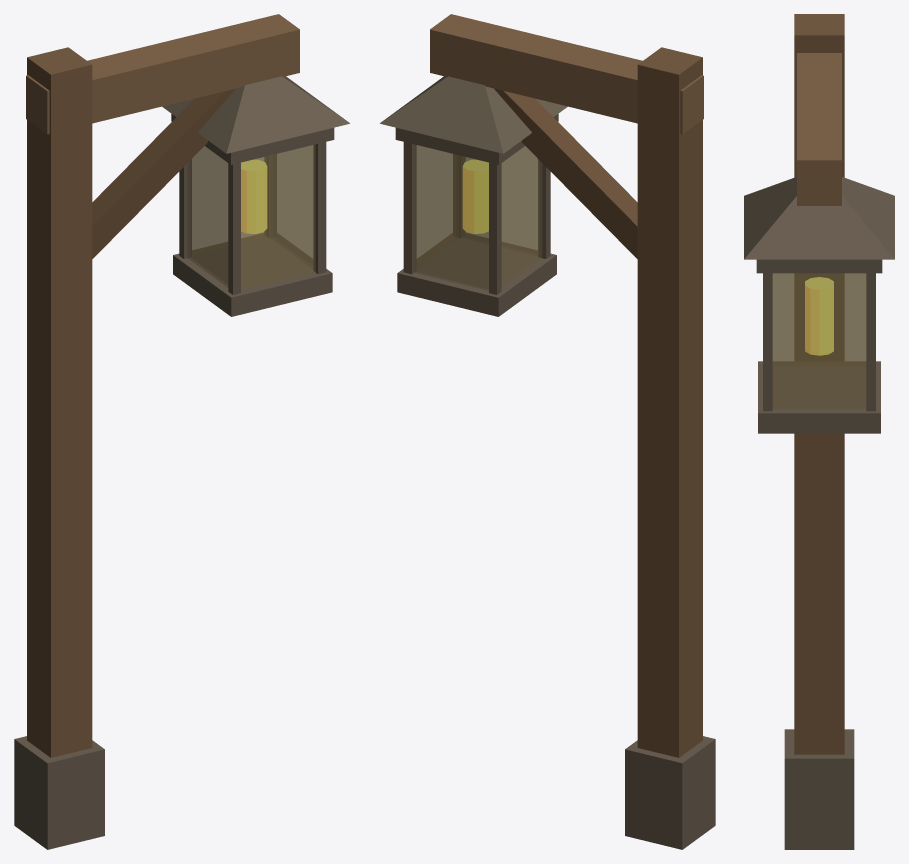
File: harbor_lantern.glb
3 views of the same model, side by side, from view 1: azimuth 30°, elevation 25°; view 2: azimuth 150°, elevation 25°; view 3: azimuth 270°, elevation 25° (orthographic). The views are drawn at different scales.
Parts seen in each view (by area): view 1: harbor_lantern_Harbor oak plank 1, harbor_lantern_Keeper dark forged bronze, harbor_lantern_Harbor lantern glass, harbor_lantern_Harbor oak plank 2, harbor_lantern_Harbor oak plank 0, harbor_lantern_Harbor lantern flame; view 2: harbor_lantern_Harbor oak plank 1, harbor_lantern_Keeper dark forged bronze, harbor_lantern_Harbor lantern glass, harbor_lantern_Harbor oak plank 2, harbor_lantern_Harbor oak plank 0, harbor_lantern_Harbor lantern flame; view 3: harbor_lantern_Keeper dark forged bronze, harbor_lantern_Harbor oak plank 1, harbor_lantern_Harbor lantern glass, harbor_lantern_Harbor oak plank 2, harbor_lantern_Harbor lantern flame.
Boxes of the visible parts, x1,y1,x2,y2 form: harbor_lantern_Harbor oak plank 1: [27, 47, 92, 757]; harbor_lantern_Keeper dark forged bronze: [14, 76, 349, 849]; harbor_lantern_Harbor lantern glass: [188, 144, 315, 290]; harbor_lantern_Harbor oak plank 2: [26, 14, 299, 134]; harbor_lantern_Harbor oak plank 0: [92, 88, 235, 258]; harbor_lantern_Harbor lantern flame: [241, 160, 266, 233]; harbor_lantern_Harbor oak plank 1: [637, 47, 702, 757]; harbor_lantern_Keeper dark forged bronze: [380, 76, 715, 849]; harbor_lantern_Harbor lantern glass: [414, 144, 541, 290]; harbor_lantern_Harbor oak plank 2: [430, 14, 703, 134]; harbor_lantern_Harbor oak plank 0: [494, 88, 637, 258]; harbor_lantern_Harbor lantern flame: [463, 160, 488, 233]; harbor_lantern_Keeper dark forged bronze: [744, 177, 894, 849]; harbor_lantern_Harbor oak plank 1: [794, 14, 844, 754]; harbor_lantern_Harbor lantern glass: [772, 273, 866, 408]; harbor_lantern_Harbor oak plank 2: [797, 53, 841, 205]; harbor_lantern_Harbor lantern flame: [805, 277, 833, 355].
Size of the model in its own units: 1.24 by 3.2 by 0.54.
